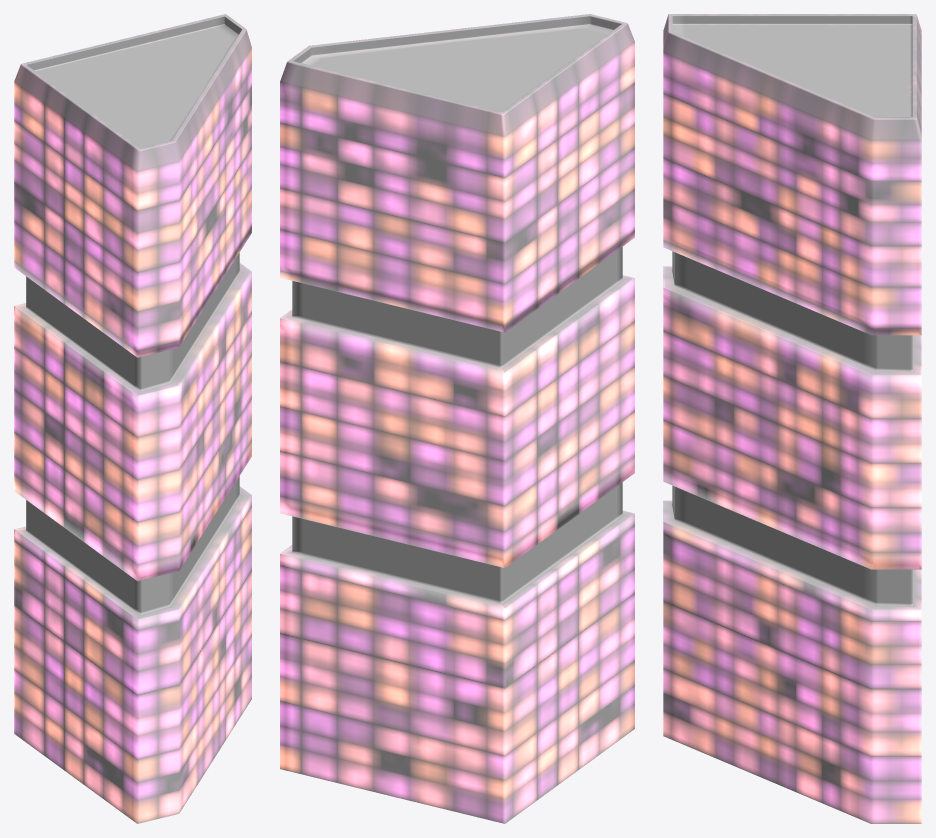
The model's file is BuildingTriangular.fbx.
3 views of the same model, side by side, from view 1: azimuth 30°, elevation 25°; view 2: azimuth 150°, elevation 25°; view 3: azimuth 270°, elevation 25° (orthographic). The views are drawn at different scales.
Parts seen in each view (by area): view 1: BuildingTriangular; view 2: BuildingTriangular; view 3: BuildingTriangular.
Boxes of the visible parts, left/top/right/bottom form: BuildingTriangular: left=14, top=14, right=251, bottom=823; BuildingTriangular: left=280, top=14, right=634, bottom=823; BuildingTriangular: left=663, top=14, right=921, bottom=823.
Bounding box in the file's own units: 200 × 600 × 200.
